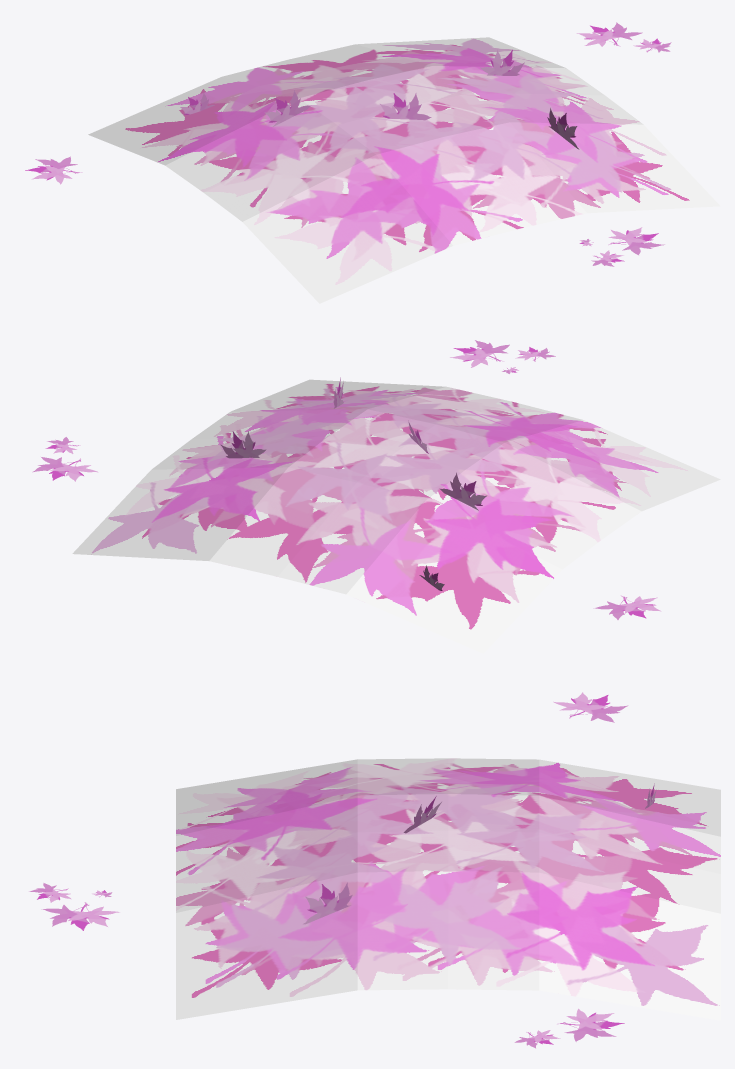
File: Pile_Of_Leaves_Sakura.fbx
3 views of the same model, one above another, from view 1: azimuth 30°, elevation 25°; view 2: azimuth 150°, elevation 25°; view 3: azimuth 270°, elevation 25° (orthographic). The views are drawn at different scales.
Parts seen in each view (by area): view 1: Plane, Plane.004, Plane.009, Plane.006, Plane.007, Plane.002, Plane.001, Plane.003; view 2: Plane, Plane.006, Plane.009, Plane.007, Plane.002, Plane.001; view 3: Plane, Plane.006, Plane.007, Plane.009, Plane.003.
Part boxes in pixels (box(x1,y1,x2,y2)): Plane: box(88, 37, 720, 303); Plane.004: box(380, 93, 431, 120); Plane.009: box(608, 227, 664, 255); Plane.006: box(25, 156, 82, 184); Plane.007: box(576, 22, 642, 46); Plane.002: box(264, 90, 310, 126); Plane.001: box(480, 49, 524, 75); Plane.003: box(547, 108, 579, 149); Plane: box(72, 379, 720, 653); Plane.006: box(593, 595, 661, 619); Plane.009: box(450, 340, 509, 367); Plane.007: box(32, 457, 98, 481); Plane.002: box(440, 472, 486, 510); Plane.001: box(220, 431, 266, 458); Plane: box(176, 758, 720, 1020); Plane.006: box(553, 692, 628, 722); Plane.007: box(557, 1008, 624, 1041); Plane.009: box(41, 902, 119, 930); Plane.003: box(303, 882, 352, 924).
Size of the model in its own units: 323 by 47.46 by 259.
